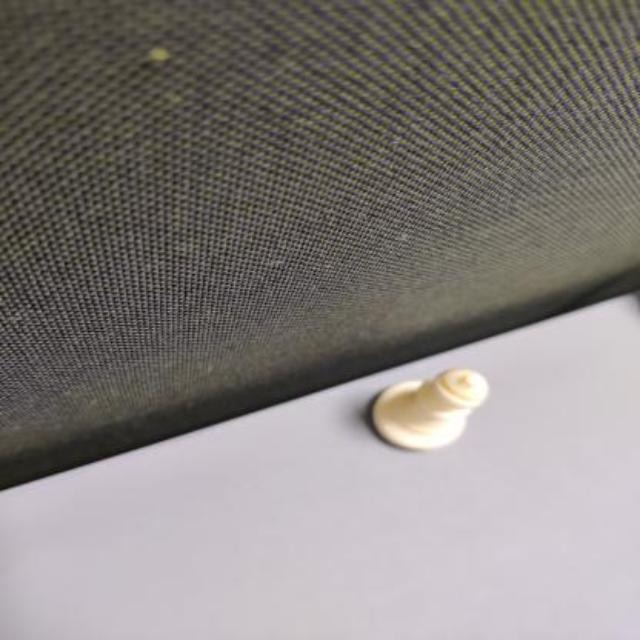white-bishop: (365, 365, 491, 457)
